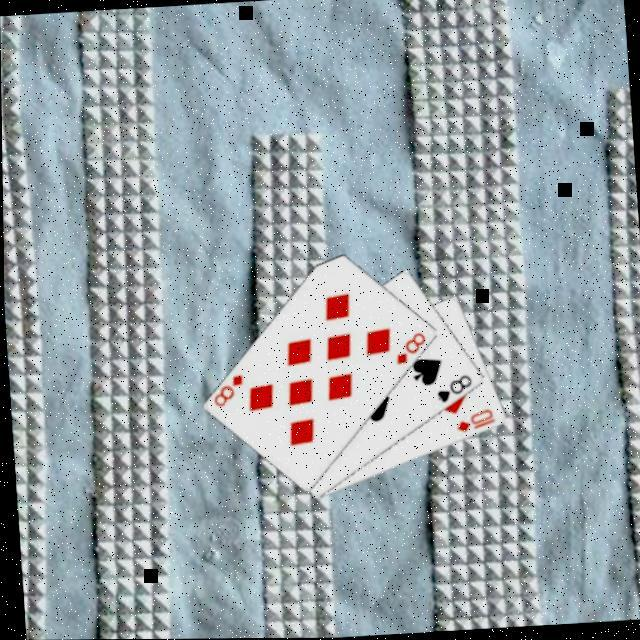10D: (453, 408, 498, 438)
8D: (391, 332, 430, 371), (209, 373, 247, 412)
8S: (432, 373, 476, 408)
